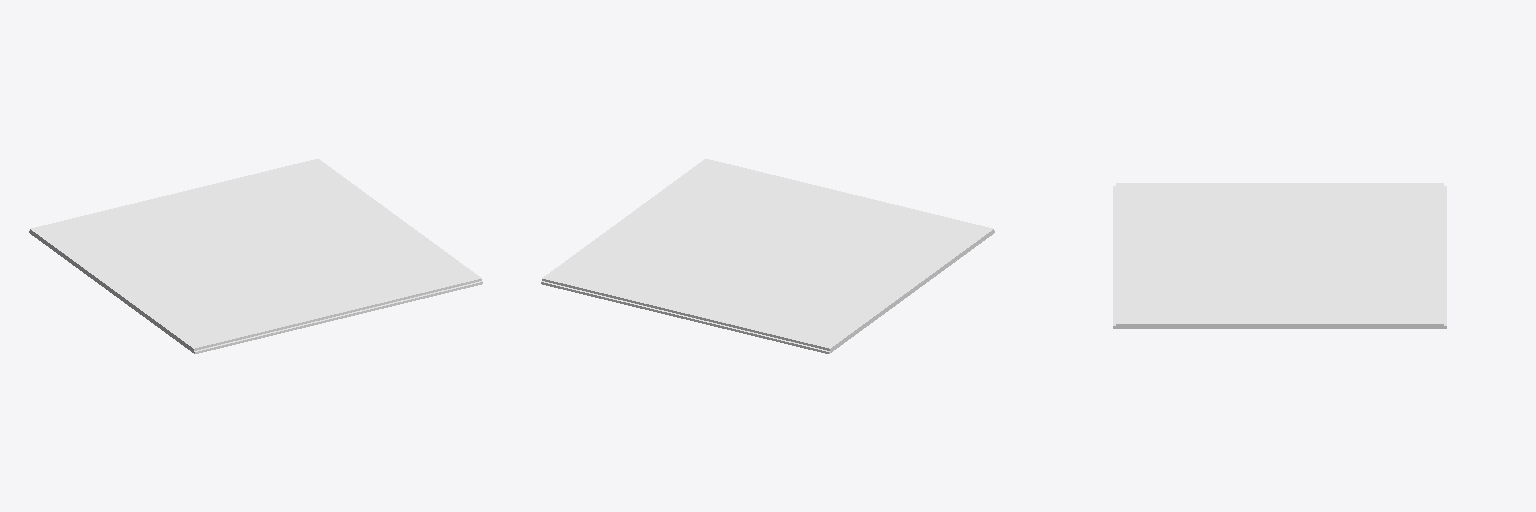
The model's file is GDS2_Flooring-7.obj.
3 renders of one model, left to right at view 1: azimuth 30°, elevation 25°; view 2: azimuth 150°, elevation 25°; view 3: azimuth 270°, elevation 25°, orthographic.
Parts seen in each view (by area): view 1: GDS2_Flooring-7; view 2: GDS2_Flooring-7; view 3: GDS2_Flooring-7.
Part boxes in pixels (bbox=[...]): GDS2_Flooring-7: bbox=[29, 159, 482, 353]; GDS2_Flooring-7: bbox=[541, 159, 994, 353]; GDS2_Flooring-7: bbox=[1113, 183, 1446, 328].
Size of the model in its own units: 12.8 by 0.2 by 12.8.